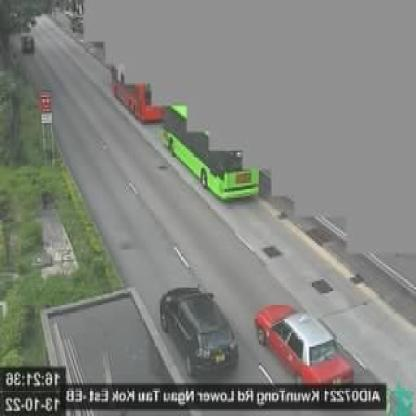Car: (256, 305, 356, 386), (158, 285, 238, 380), (21, 34, 34, 55)
